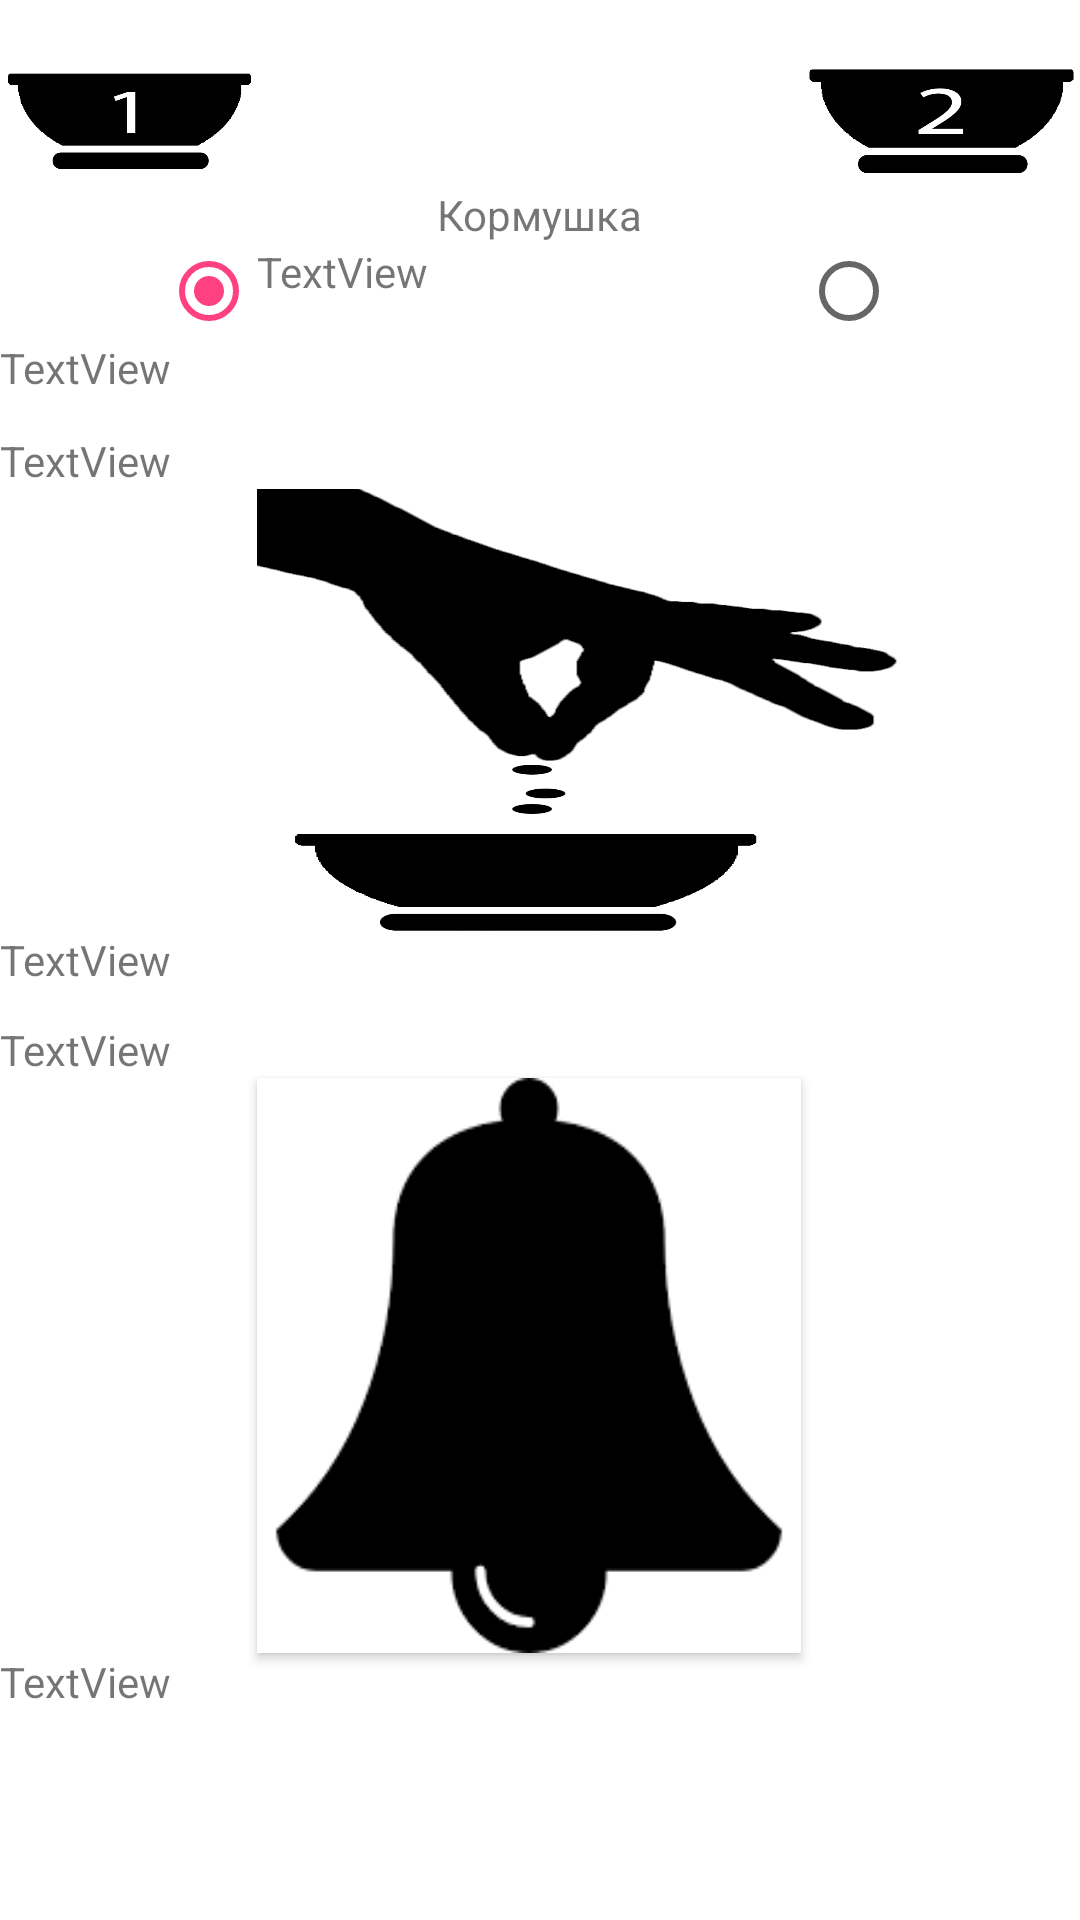

Locate icon controls on the screen. Image size 1080x1920, boxes as {"x1": x1, "y1": y1, "x2": x2, "y2": y2}.
miska: {"x1": 809, "y1": 69, "x2": 1074, "y2": 173}, {"x1": 8, "y1": 73, "x2": 251, "y2": 169}
